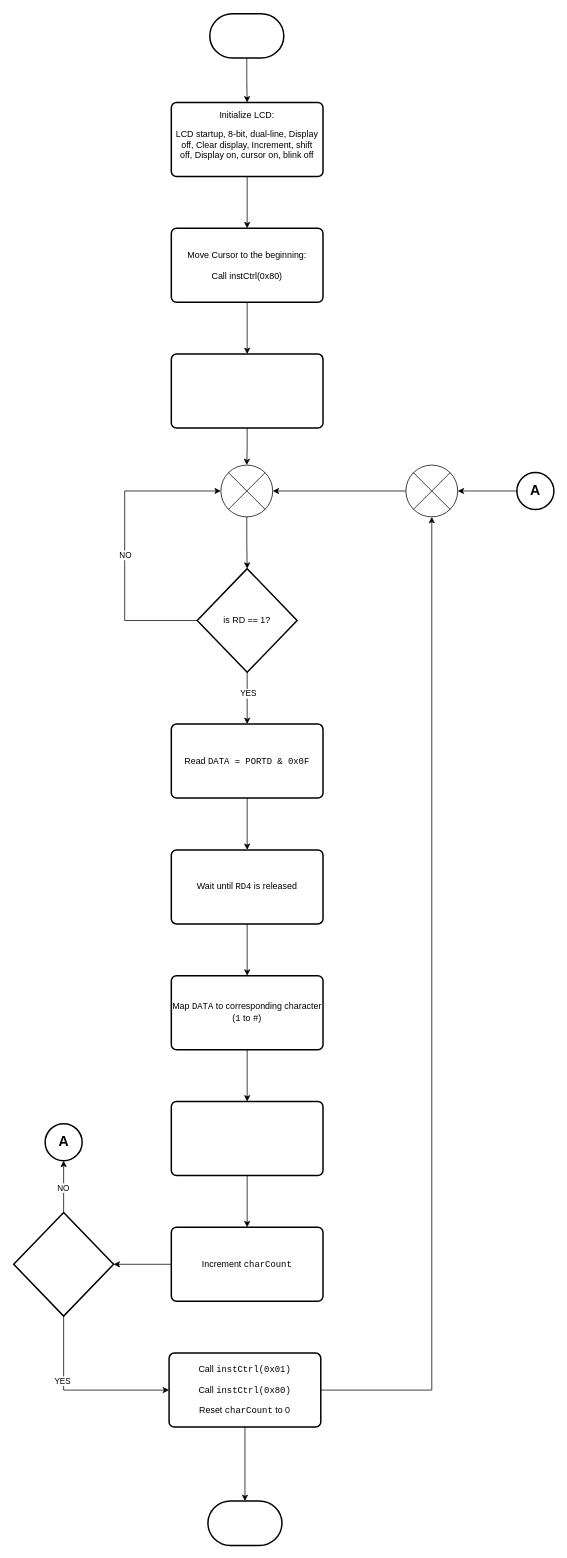
Some shapes in this 567 by 1558 pixel diagram are drawn without their labels. The centre of each missing label's shape, as x and y in pixels:
"Call dataCtrl() to display character on LCD" belongs at [246,1138].
"END" belongs at [244,1523].
"Enter Infinite Loop:" belongs at [246,390].
"If charCount >= 104" belongs at [63,1263].
"START" belongs at [246,35].
